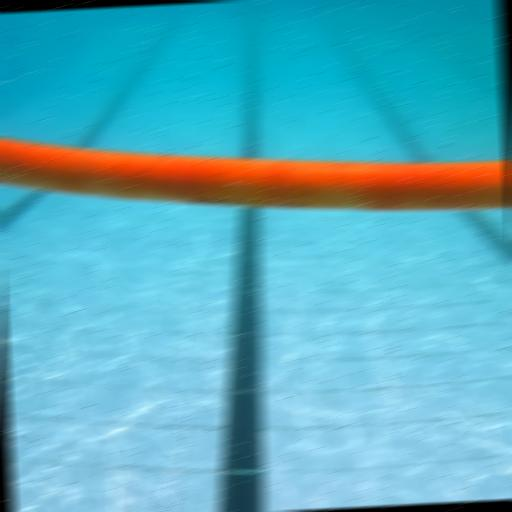upper_gate: (0, 109, 511, 233)
